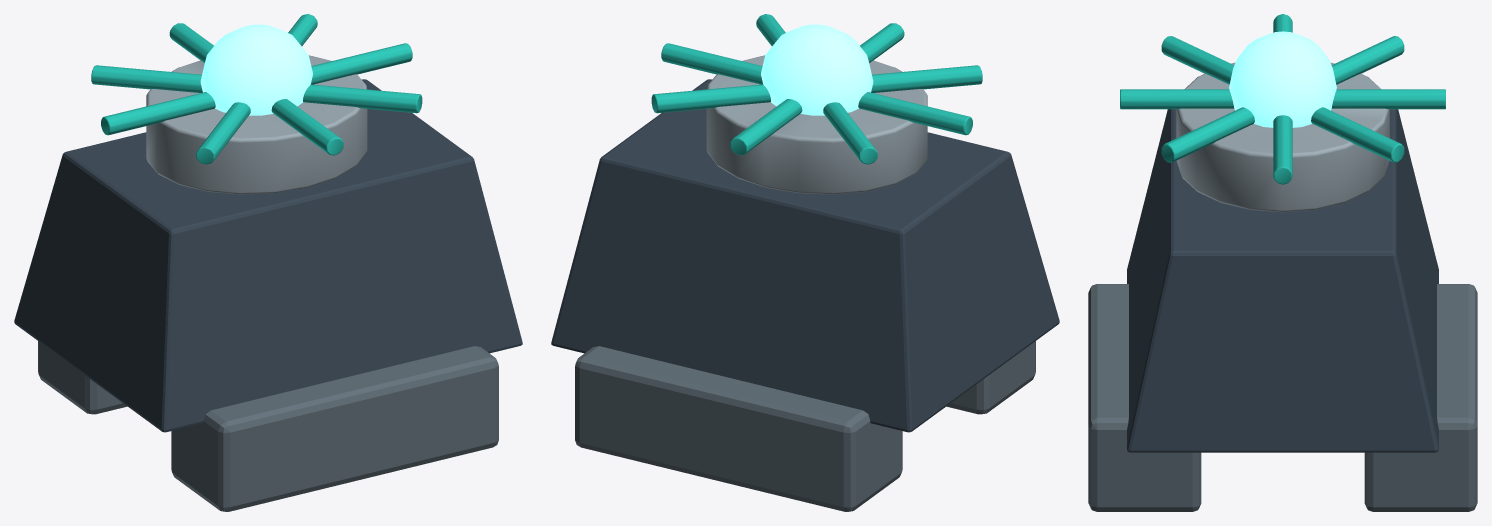
File: SM_Mend.fbx
3 views of the same model, side by side, from view 1: azimuth 30°, elevation 25°; view 2: azimuth 150°, elevation 25°; view 3: azimuth 270°, elevation 25° (orthographic). The views are drawn at different scales.
Parts seen in each view (by area): view 1: SM_Mend; view 2: SM_Mend; view 3: SM_Mend.
Boxes of the visible parts, x1,y1,x2,y2 form: SM_Mend: [14, 14, 522, 511]; SM_Mend: [551, 14, 1059, 511]; SM_Mend: [1088, 14, 1477, 511].
Bounding box in the file's own units: 38 × 34.24 × 39.
